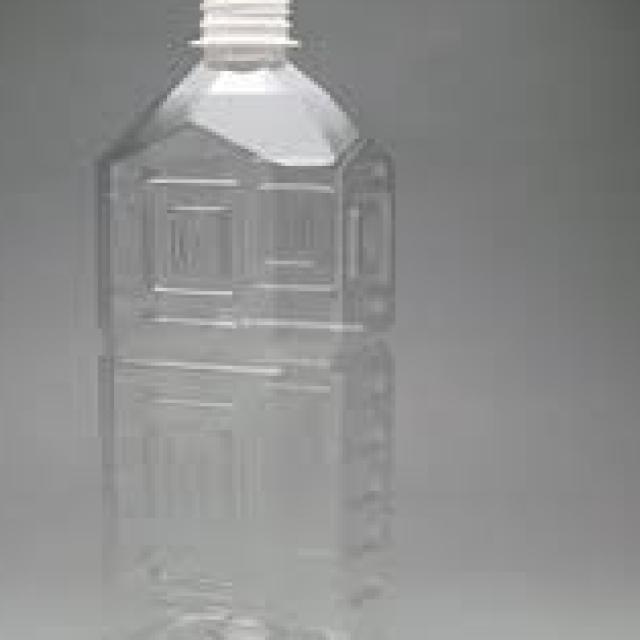organic: (80, 7, 411, 635)
